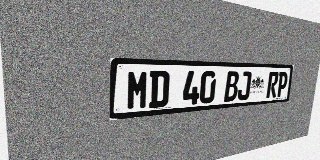0: (199, 71, 217, 104)
4: (182, 71, 201, 105)
B: (224, 71, 240, 102)
D: (148, 70, 170, 108)
J: (237, 71, 252, 101)
M: (126, 70, 149, 110)
P: (276, 72, 288, 97)
R: (266, 72, 279, 98)
